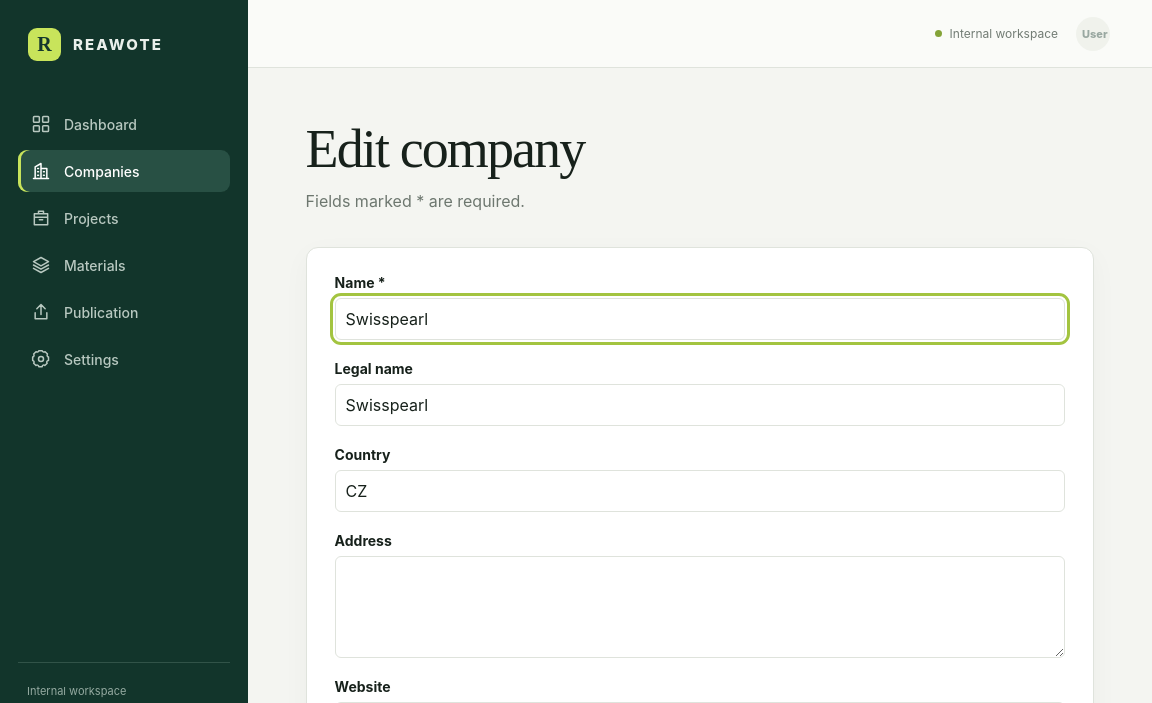
Test: HTTP forms › edits a company with a minimal PATCH and clears optional fields with null
Expected: the field labelled "Name *" holds "Swisspearl", [335,298,1065,340]
Clear the field labelled "Legal name" at (700, 405), box [335,384,1065,426]
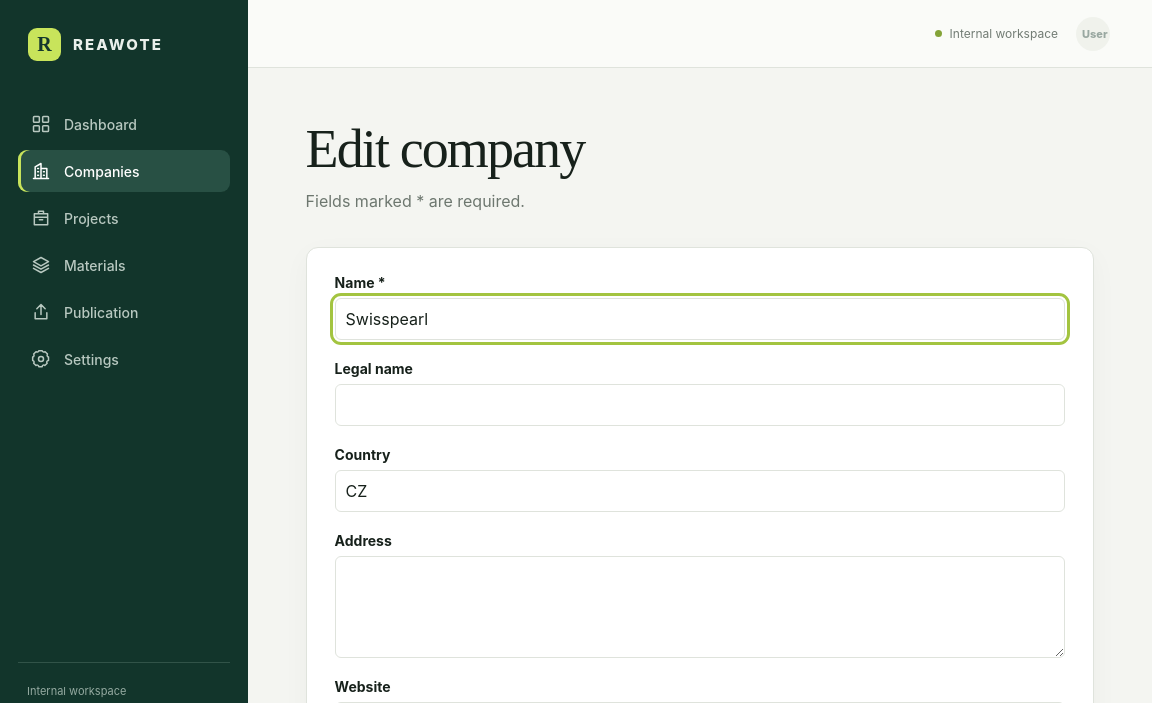
Replace the text in the field labelled "Name *" with "Renamed company" at (700, 319), box [335,298,1065,340]
(page scrolled)
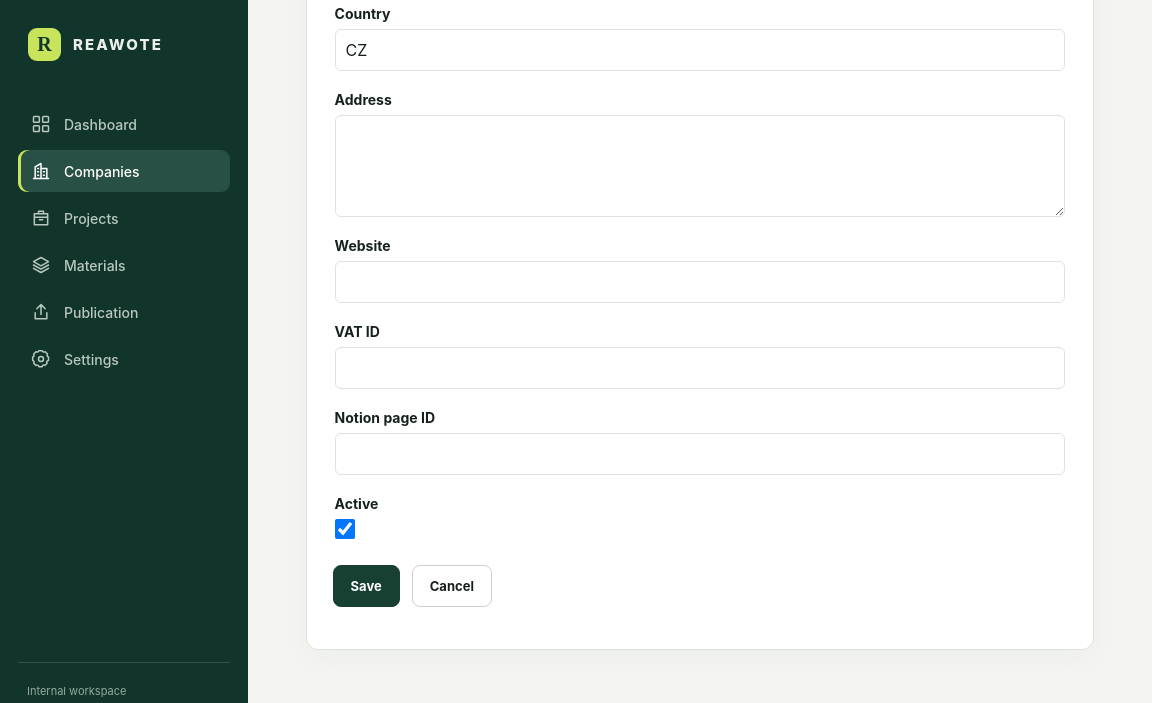
Click the button "Save" at (366, 586), box [333,565,400,607]
(page scrolled)
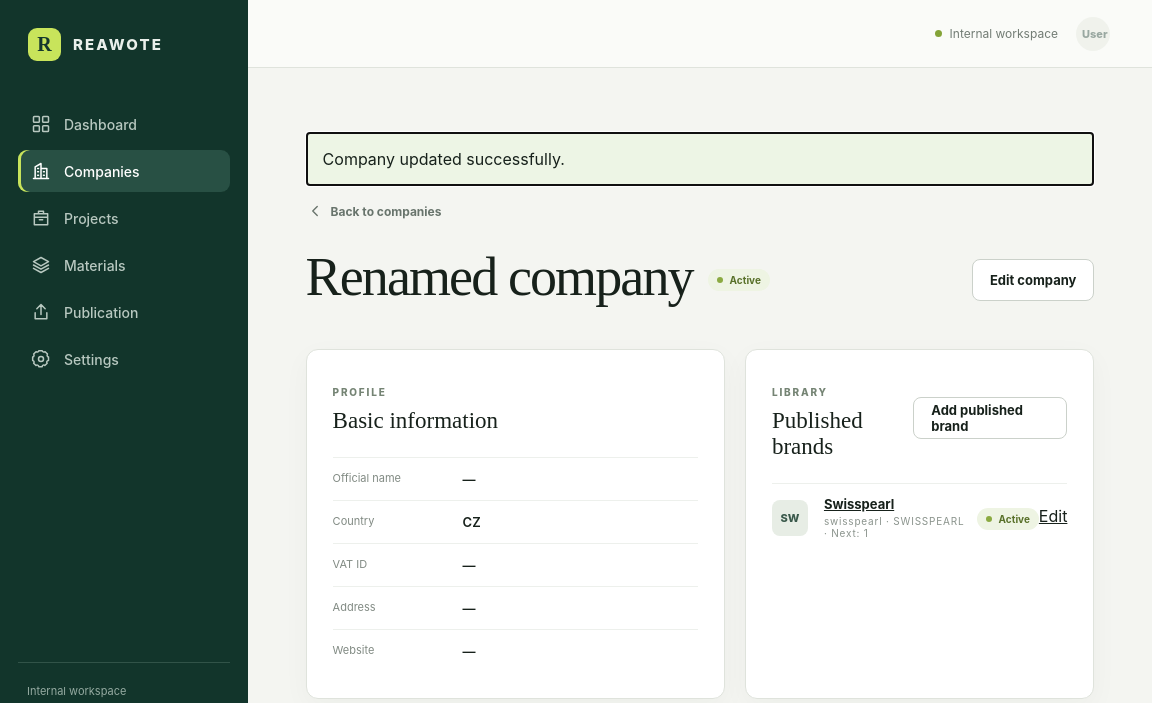
Expected: the heading "Renamed company" is shown, [306,246,693,308]
